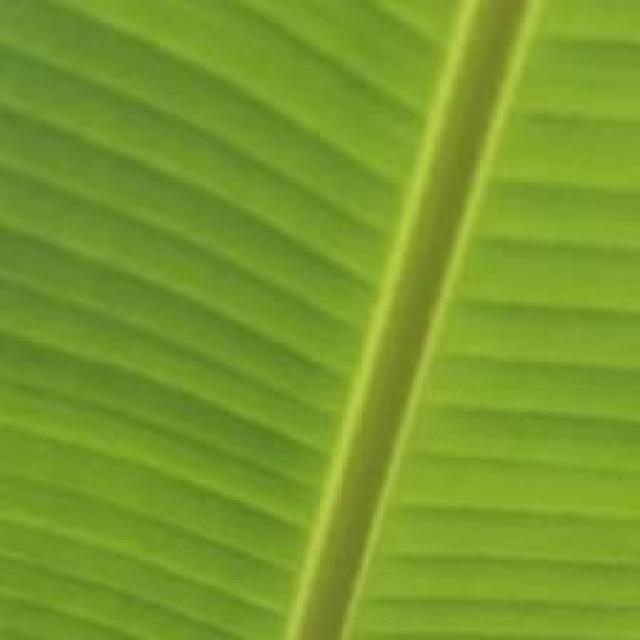Black_leaf_spot: (0, 0, 614, 628)
